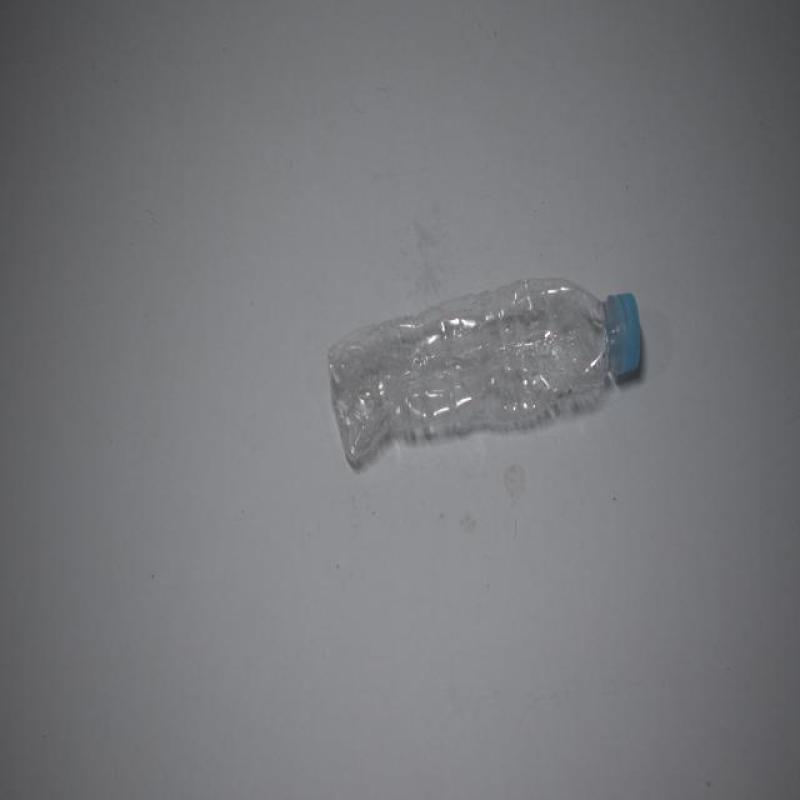botella: (326, 274, 644, 472)
